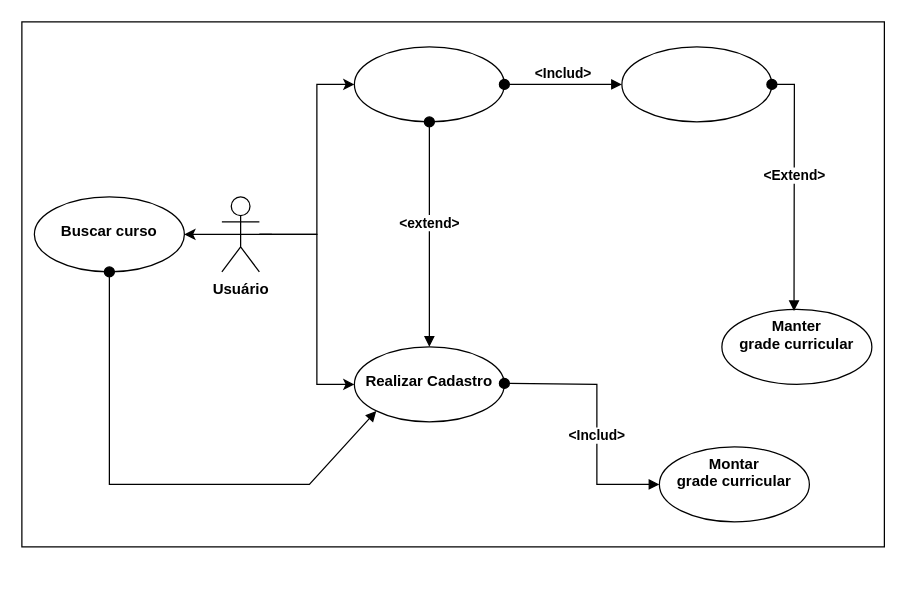
This 906x594 diagram has some shape labels left out. The centre of each missing label's shape, as x and y in pixels:
Efetuar Login: point 428,84
Mostrar grade curricular: point 696,84
